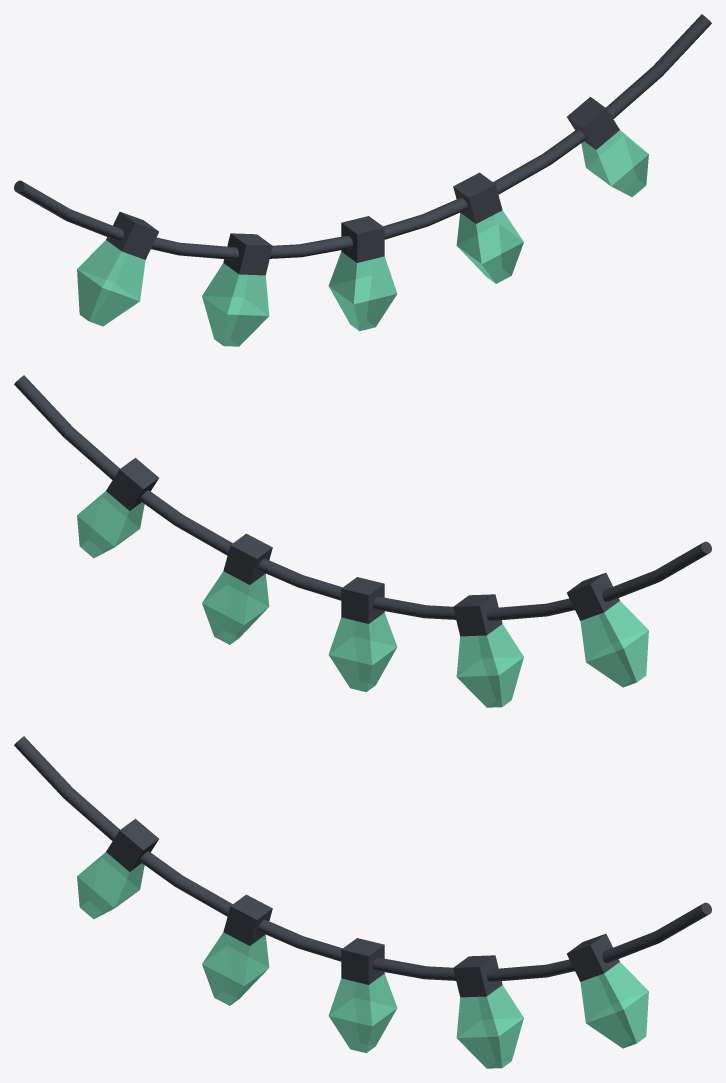
Rendered from lightsGreen.fbx.
3 views of the same model, one above another, from view 1: azimuth 30°, elevation 25°; view 2: azimuth 150°, elevation 25°; view 3: azimuth 330°, elevation 25° (orthographic).
Parts seen in each view (by area): view 1: lightsGreen; view 2: lightsGreen; view 3: lightsGreen.
Part boxes in pixels (<box>): lightsGreen: <box>14,14,711,346</box>; lightsGreen: <box>14,375,711,707</box>; lightsGreen: <box>14,736,711,1068</box>.
Bounding box in the file's own units: 10.1 × 3.16 × 0.636.
